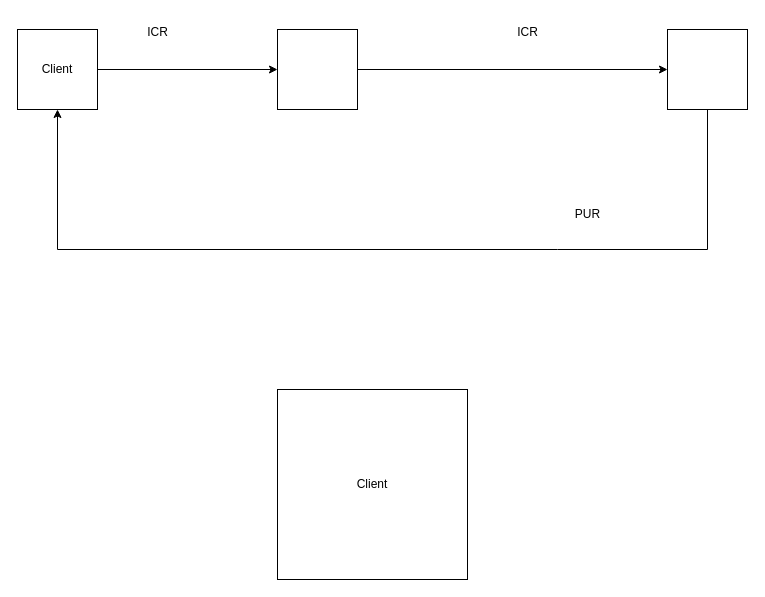
The diagram is 765 pixels wide and 597 high, and some of its shapes have lost their labels. The centre of each missing label's shape, as x and y in pixels:
"Server" belongs at [707,69].
"Shared.core" belongs at [317,69].
